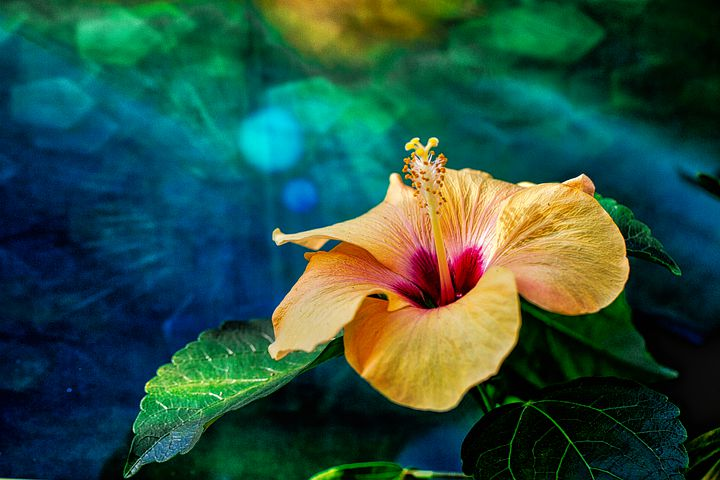Hibiscus: (253, 141, 623, 414)
